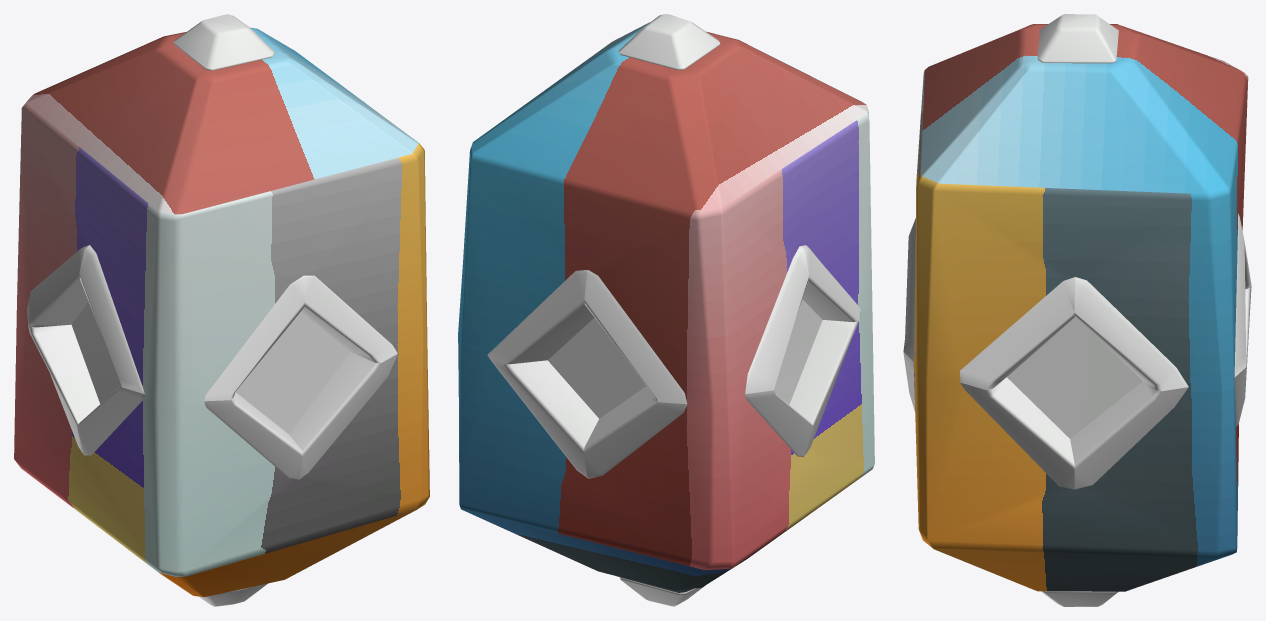
File: Prop_AP30ChallengeLantern.glb
3 views of the same model, side by side, from view 1: azimuth 30°, elevation 25°; view 2: azimuth 150°, elevation 25°; view 3: azimuth 270°, elevation 25° (orthographic).
Visible parts, largest first — view 1: Prop_AP30ChallengeLantern; view 2: Prop_AP30ChallengeLantern; view 3: Prop_AP30ChallengeLantern.
Boxes of the visible parts, bbox=[...] form: Prop_AP30ChallengeLantern: bbox=[14, 14, 429, 606]; Prop_AP30ChallengeLantern: bbox=[458, 14, 874, 606]; Prop_AP30ChallengeLantern: bbox=[903, 14, 1251, 606].
Size of the model in its own units: 0.5912 by 1.09 by 0.5902.
Materials: 1 (1 with a texture image).
